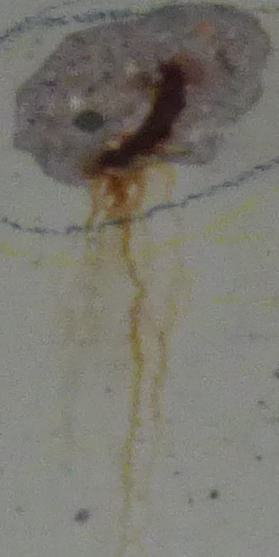Exposed reinforcement: (96, 61, 188, 168)
Spalling: (12, 1, 272, 187)
